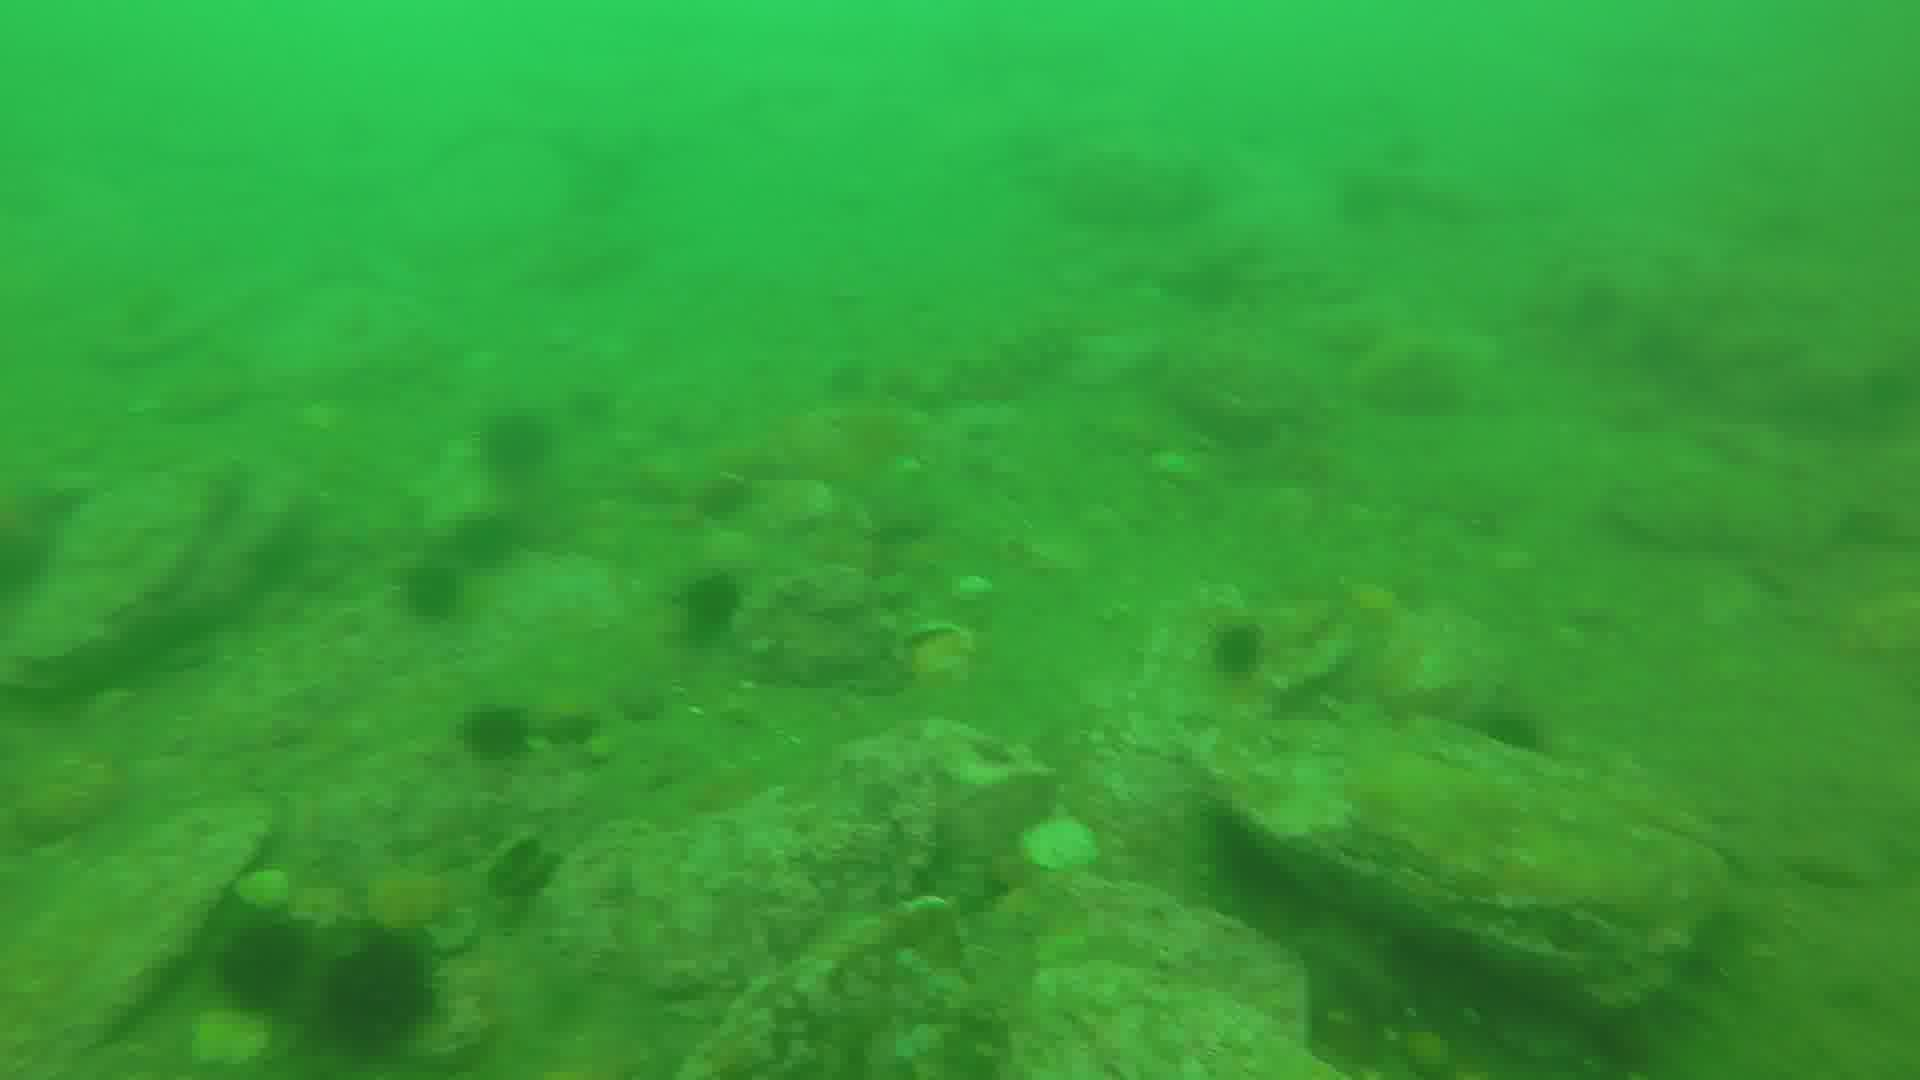echinus: (314, 934, 440, 1043), (218, 919, 315, 998), (492, 409, 560, 473), (1211, 616, 1274, 686), (458, 704, 534, 760), (688, 570, 748, 628), (410, 564, 471, 620), (450, 512, 508, 568)
holothurian: (945, 324, 1083, 404)
